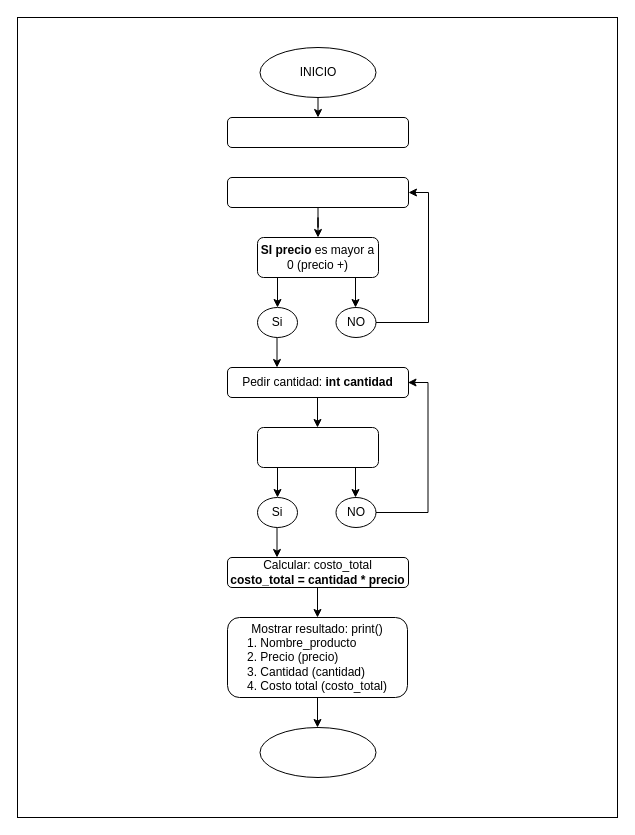
Some shapes in this 635 by 835 pixel diagram are drawn without their labels. Each missing label, with the centre of its shape:
"FIN" goes at (x=317, y=752).
"Pedir nombre: String nombre_producto" goes at (x=317, y=132).
"Pedir precio: float precio" goes at (x=317, y=192).
"SI cantidad es mayor a 0 (precio +)" goes at (x=317, y=447).
